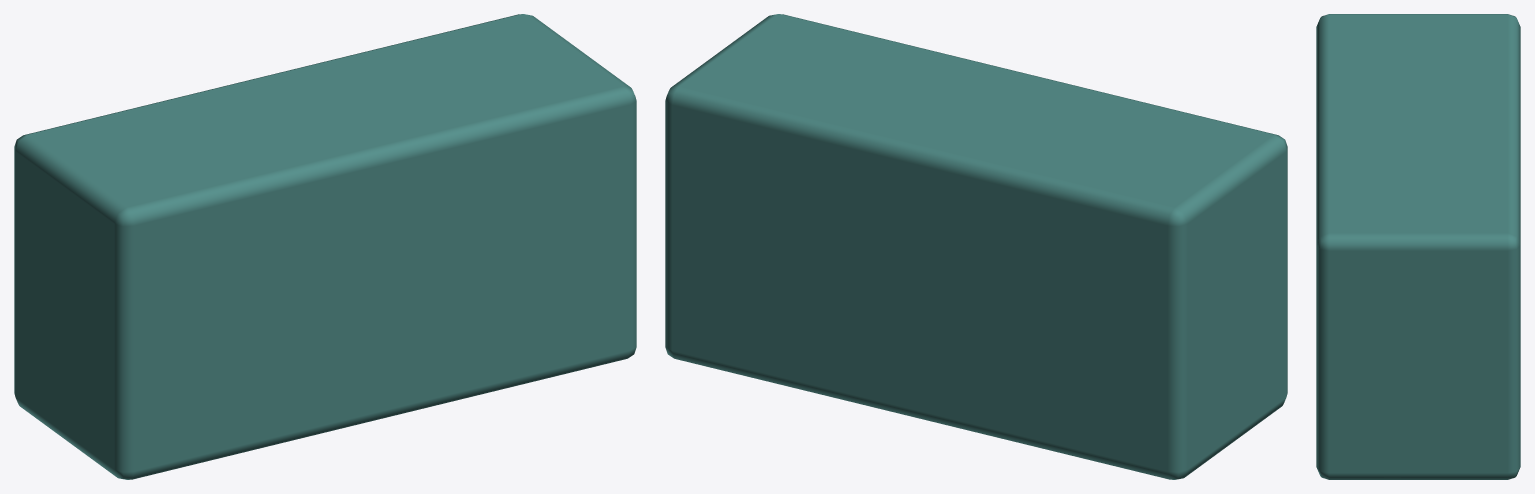
Rendered from wp-pave-droit.glb.
3 renders of one model, left to right at view 1: azimuth 30°, elevation 25°; view 2: azimuth 150°, elevation 25°; view 3: azimuth 270°, elevation 25°, orthographic. The views are drawn at different scales.
Parts seen in each view (by area): view 1: wp-pave-droit; view 2: wp-pave-droit; view 3: wp-pave-droit.
Boxes of the visible parts, bbox=[...] form: wp-pave-droit: bbox=[14, 14, 636, 479]; wp-pave-droit: bbox=[665, 14, 1287, 479]; wp-pave-droit: bbox=[1316, 14, 1520, 479].
Size of the model in its own units: 0.4 by 0.2 by 0.15.
